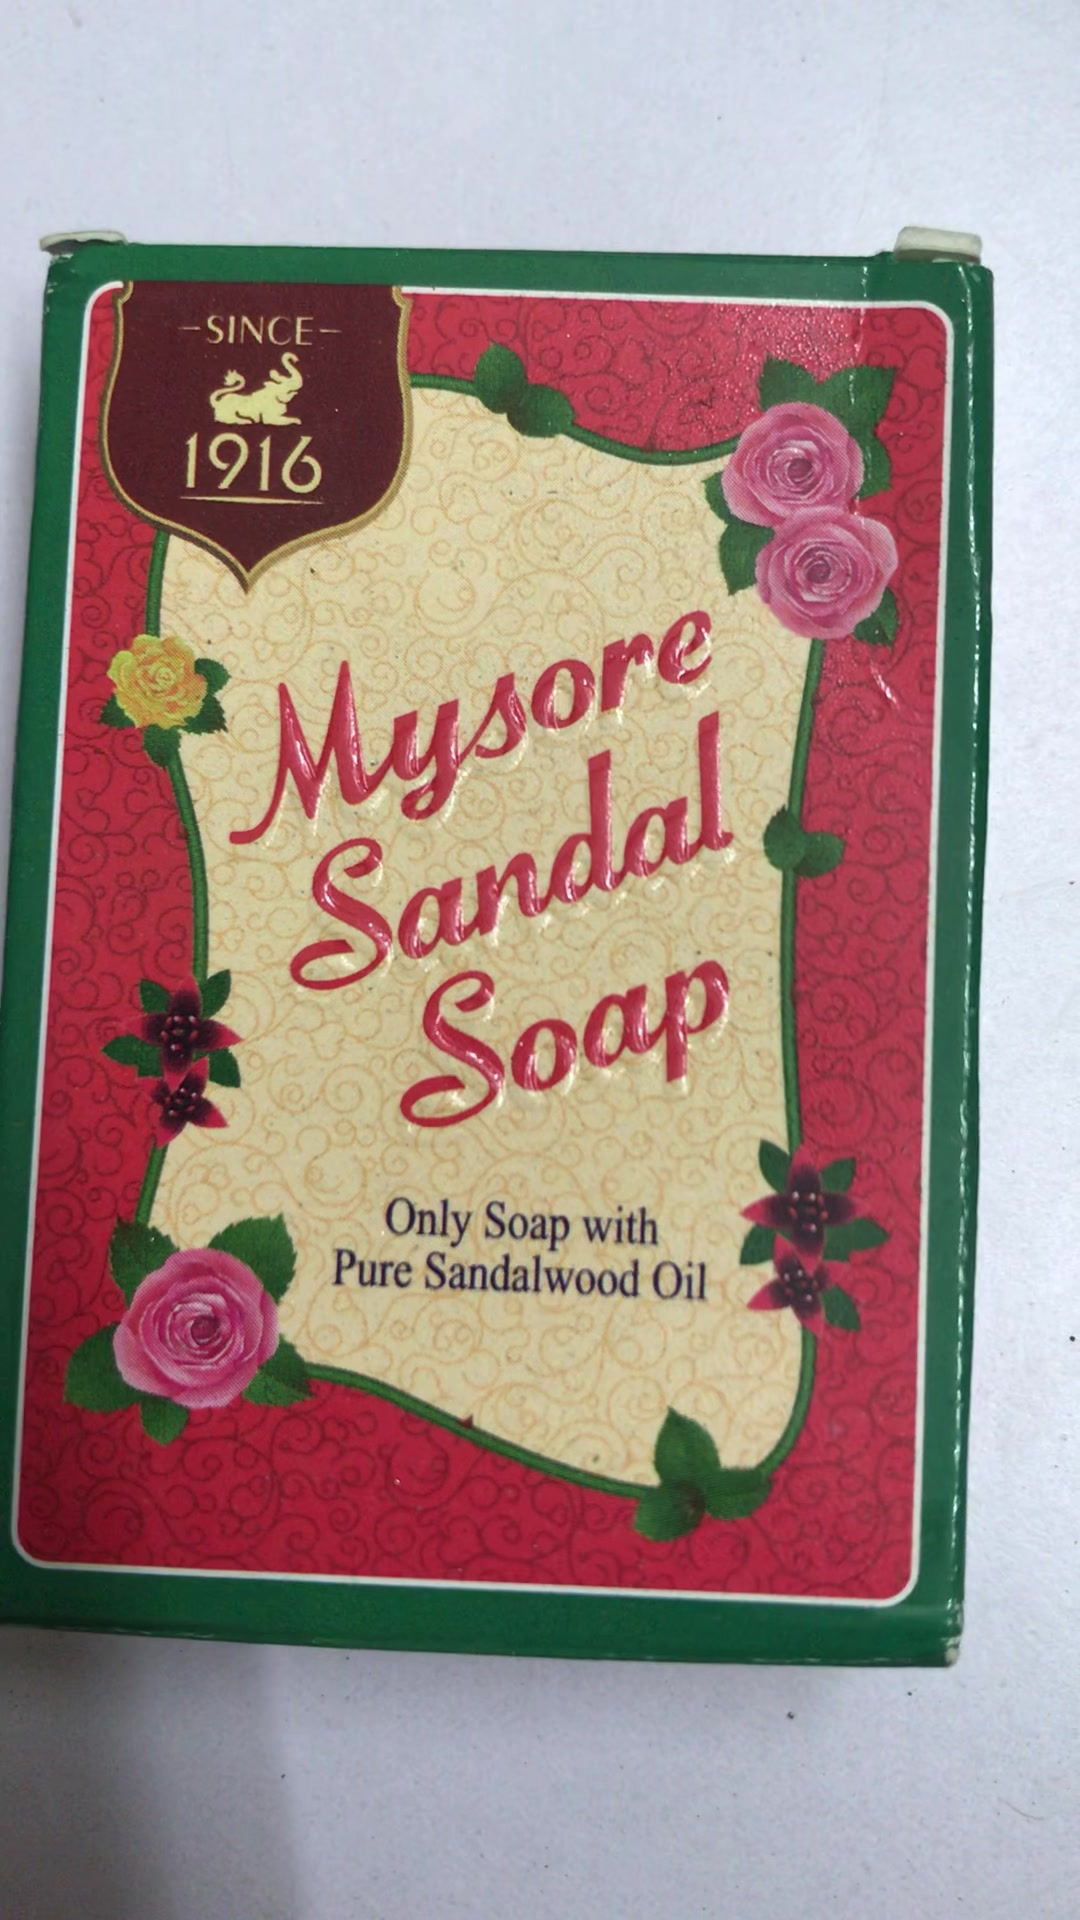mysore sandal soap: (9, 240, 963, 1665)
